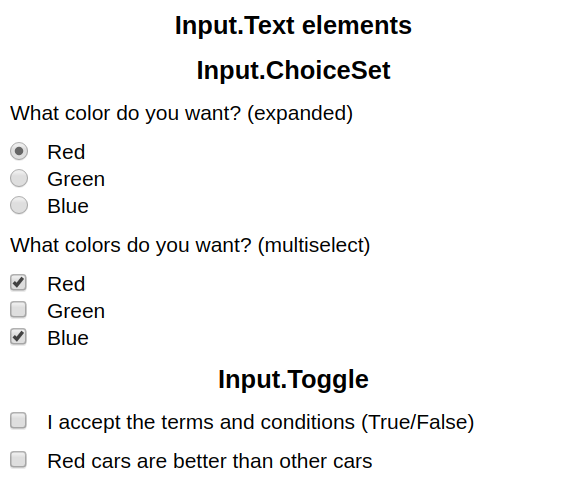checkbox: (5, 409, 489, 440), (3, 440, 377, 480), (8, 321, 106, 355), (3, 264, 105, 294), (9, 300, 124, 324)
radio_button: (8, 164, 119, 195), (10, 193, 124, 223), (6, 140, 104, 161)
textbox: (7, 99, 368, 136), (11, 231, 381, 264), (171, 6, 423, 48), (191, 52, 396, 92), (216, 366, 387, 395)
